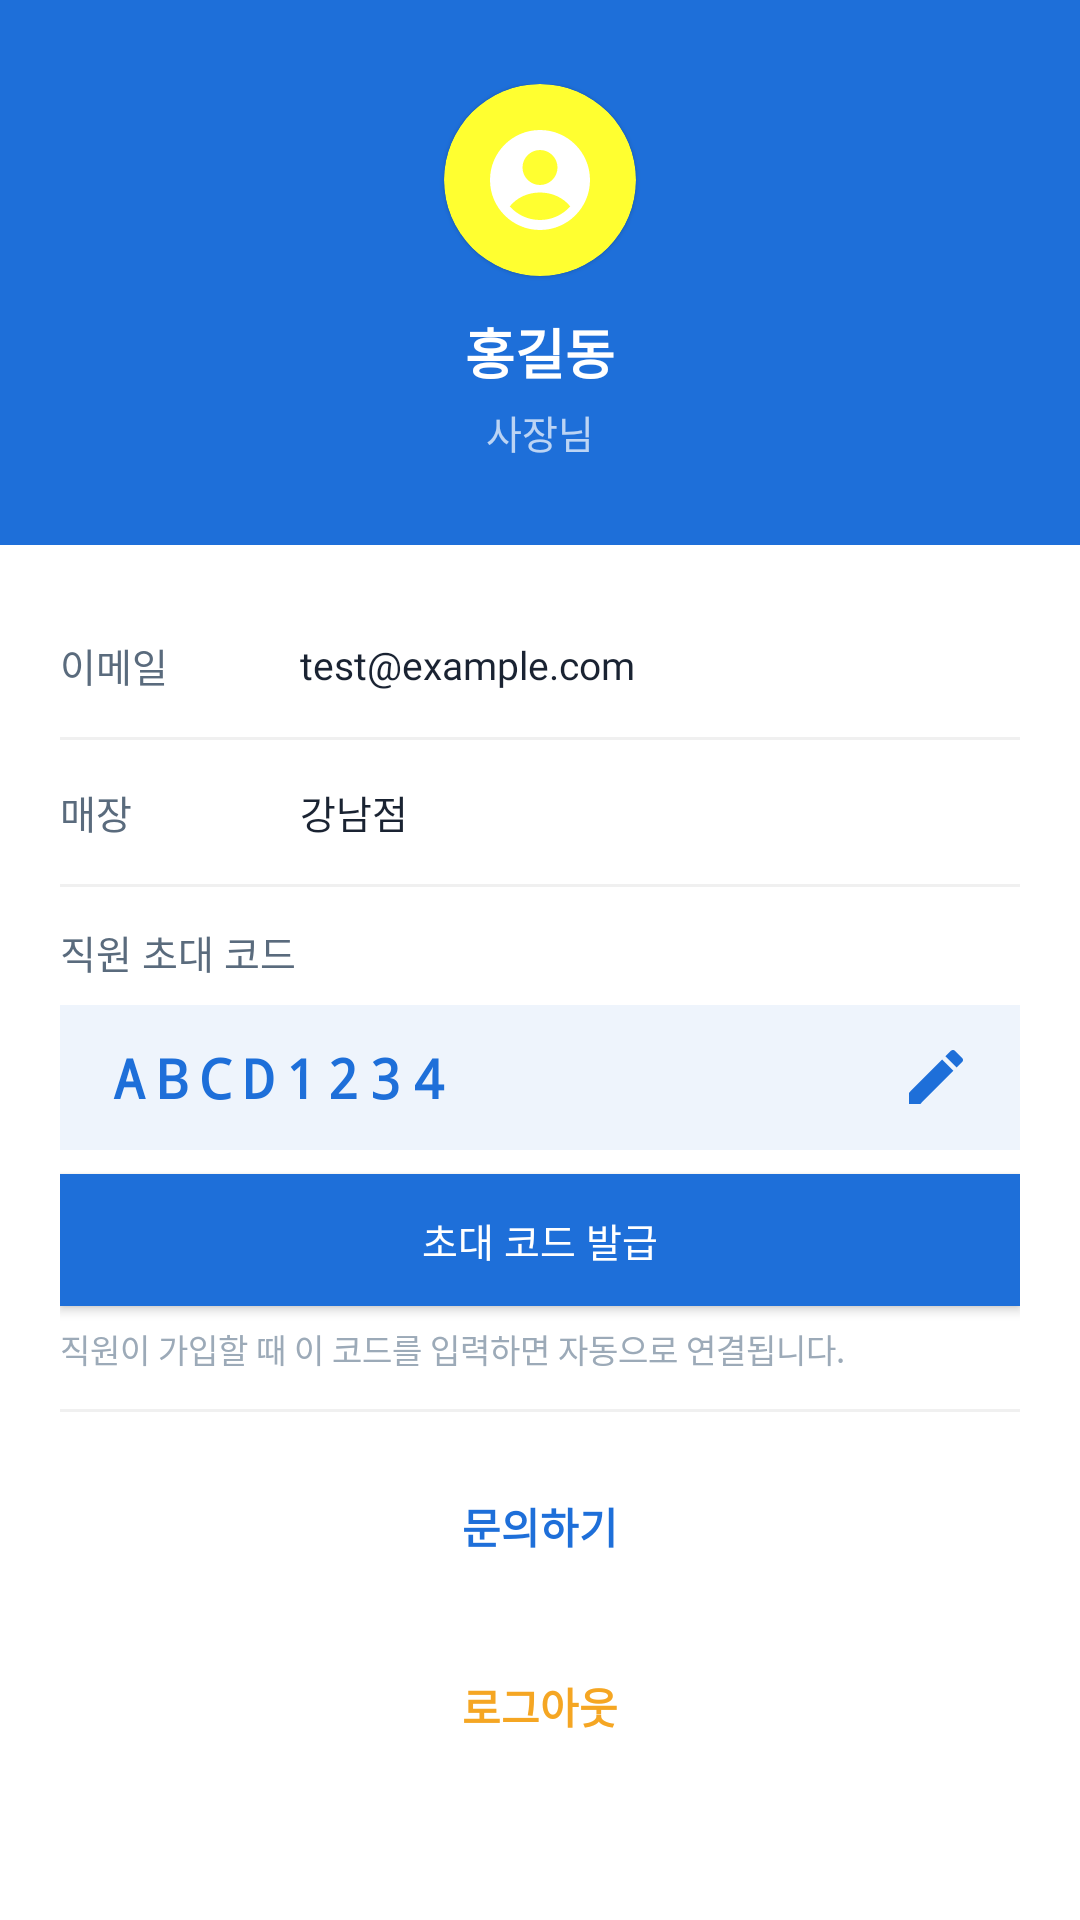

Named icons in this screenshot (1080w x 1920h) and their bounding boxes, (x1, y1, x2, y2):
프로필: (444, 84, 636, 276)
